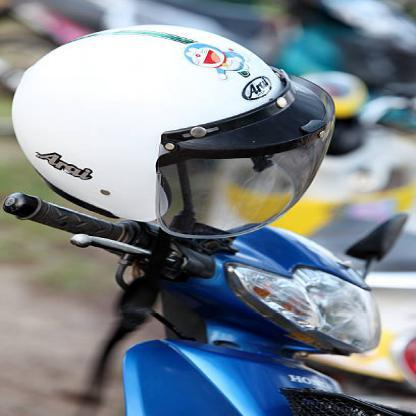Motorcycle: (0, 170, 415, 415)
